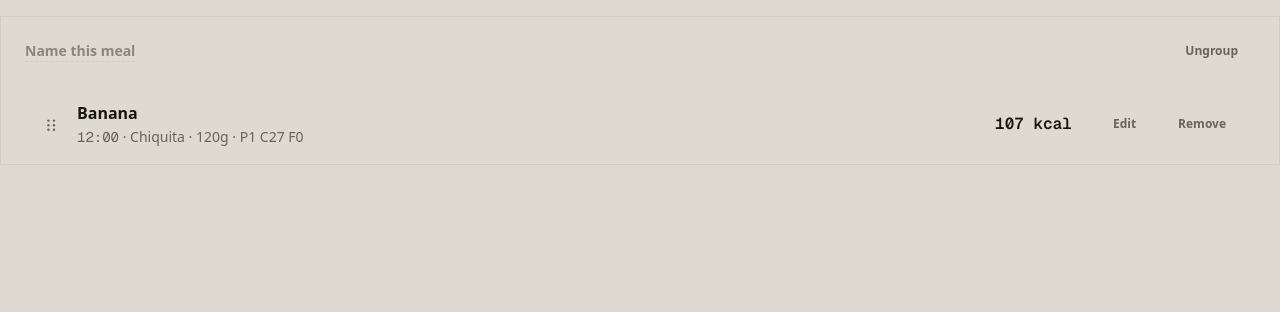
Test: EntryList › disables Save while the amount is cleared to empty
Click the button with aria-label "Edit when Banana was logged" at coordinates (1124, 125), box x1=1096 y1=107 x2=1153 y2=143
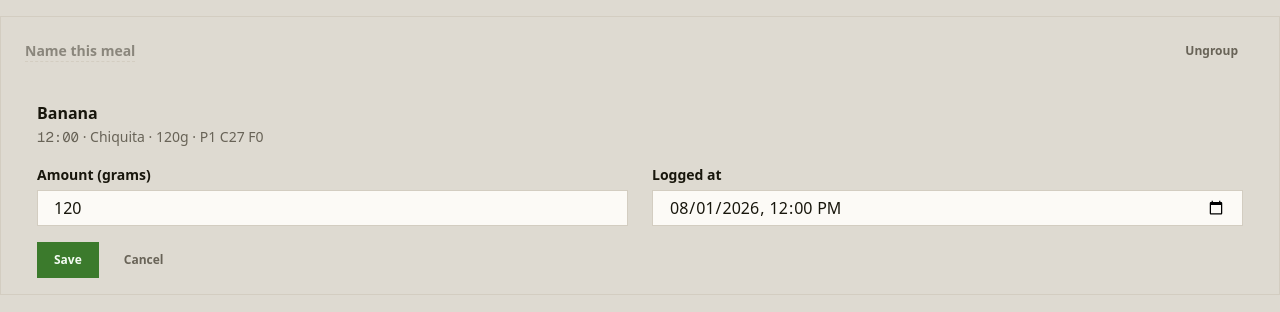
Clear the number field labelled "Amount (grams)" at coordinates (332, 208), box x1=37 y1=190 x2=628 y2=226
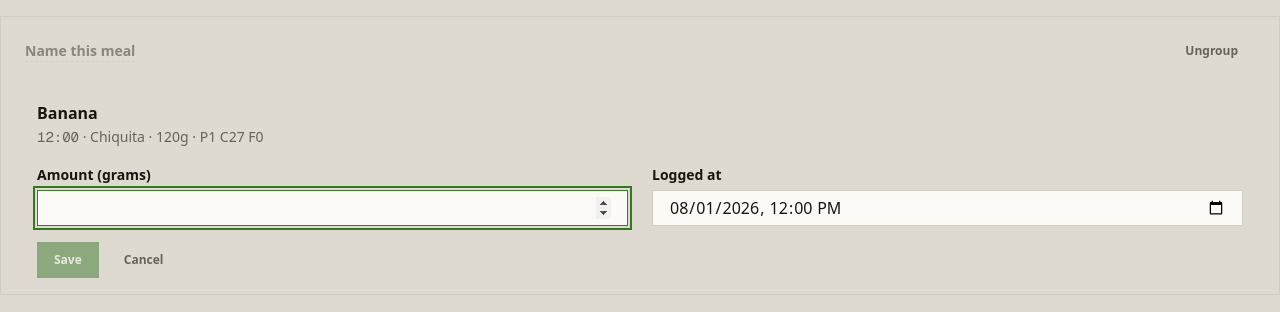
expect the button "Save" is disabled: met, box x1=37 y1=242 x2=99 y2=278
